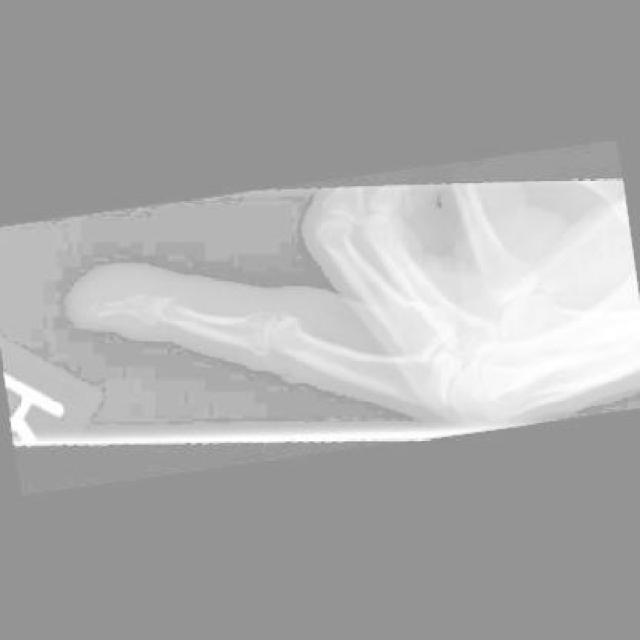Fracture: (85, 297, 116, 325)
